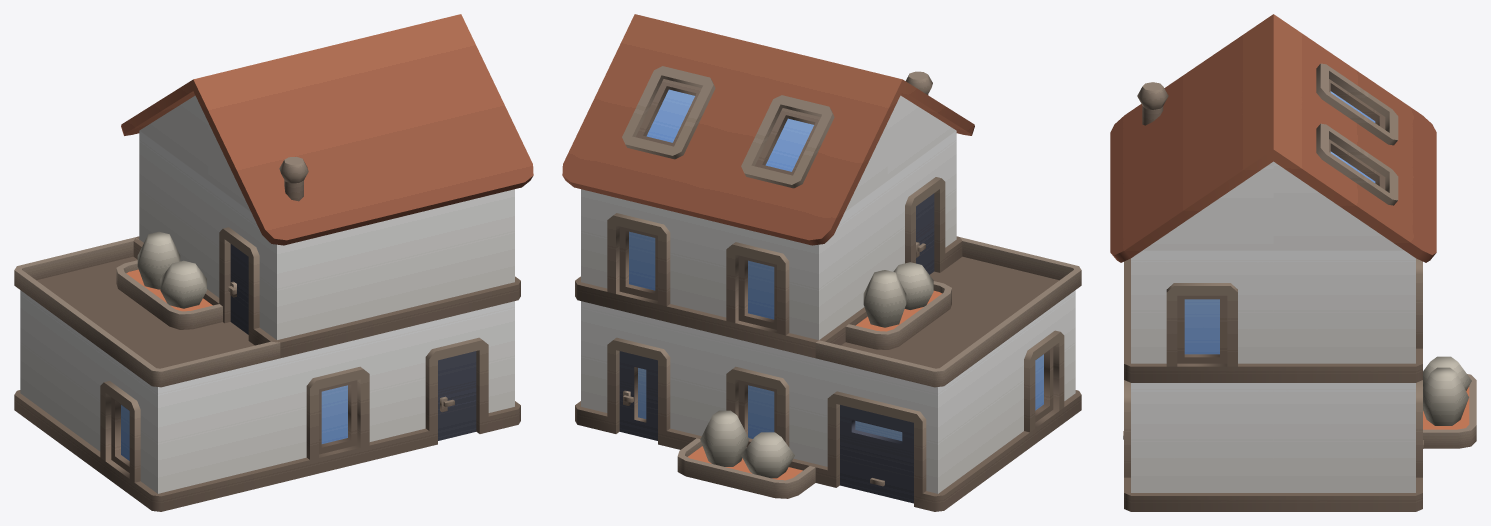
File: sub-building-type-o.glb
3 views of the same model, side by side, from view 1: azimuth 30°, elevation 25°; view 2: azimuth 150°, elevation 25°; view 3: azimuth 270°, elevation 25° (orthographic). The views are drawn at different scales.
Visible parts, largest first — view 1: building-type-o; view 2: building-type-o; view 3: building-type-o.
Boxes of the visible parts, x1,y1,x2,y2 form: building-type-o: [14, 14, 533, 511]; building-type-o: [562, 14, 1081, 511]; building-type-o: [1110, 14, 1476, 511].
Size of the model in its own units: 1.27 by 1.14 by 1.03.
Materials: 1 (1 with a texture image).
